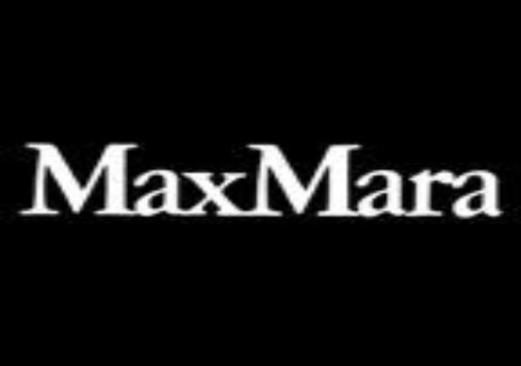MAX-MARA: (20, 136, 500, 220)
